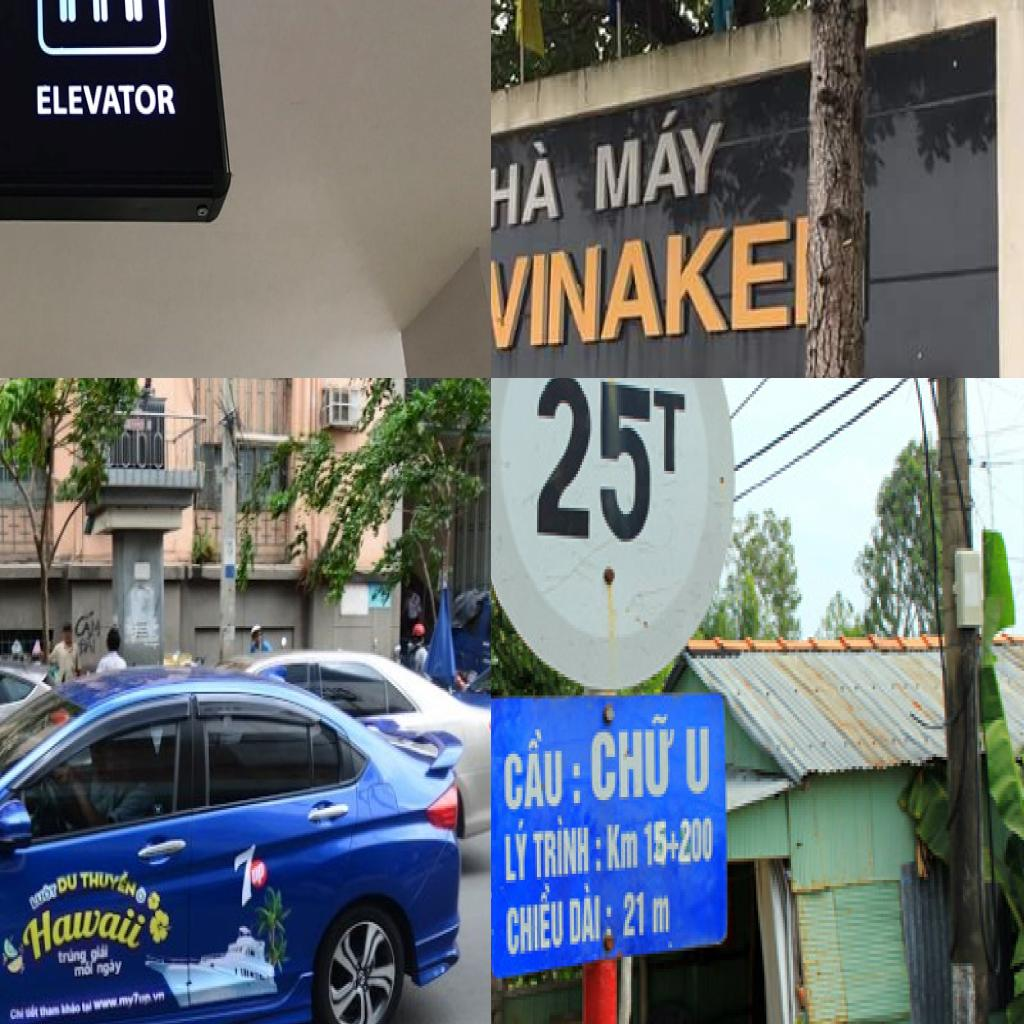text: (491, 210, 809, 354), (530, 378, 688, 556), (591, 102, 732, 216), (590, 711, 678, 806), (491, 134, 569, 240), (22, 904, 150, 968), (502, 726, 584, 816), (531, 812, 604, 883), (504, 880, 566, 960), (568, 877, 615, 951), (80, 862, 144, 905), (94, 984, 168, 1019), (604, 821, 642, 874), (232, 843, 258, 920), (678, 815, 715, 868), (687, 726, 713, 800), (504, 816, 531, 886), (642, 818, 670, 871), (26, 880, 60, 914), (73, 612, 105, 646), (56, 866, 81, 897), (55, 946, 89, 968), (248, 856, 268, 890), (96, 959, 127, 980), (77, 634, 100, 659), (90, 938, 112, 963), (666, 830, 680, 864), (40, 1000, 62, 1021), (73, 961, 96, 980), (5, 1005, 27, 1023), (63, 1000, 82, 1019), (25, 999, 39, 1024), (82, 998, 95, 1015)
